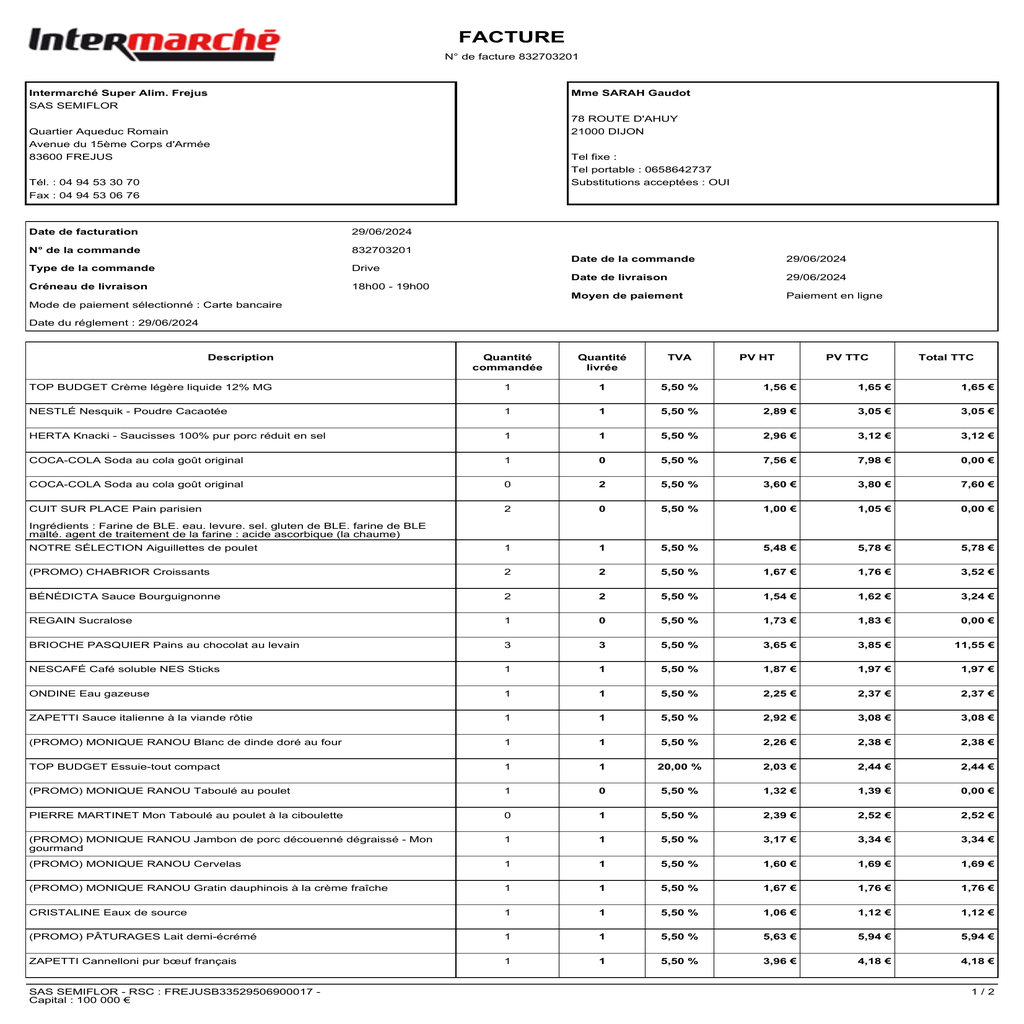recipt: (0, 0, 1022, 1020)
